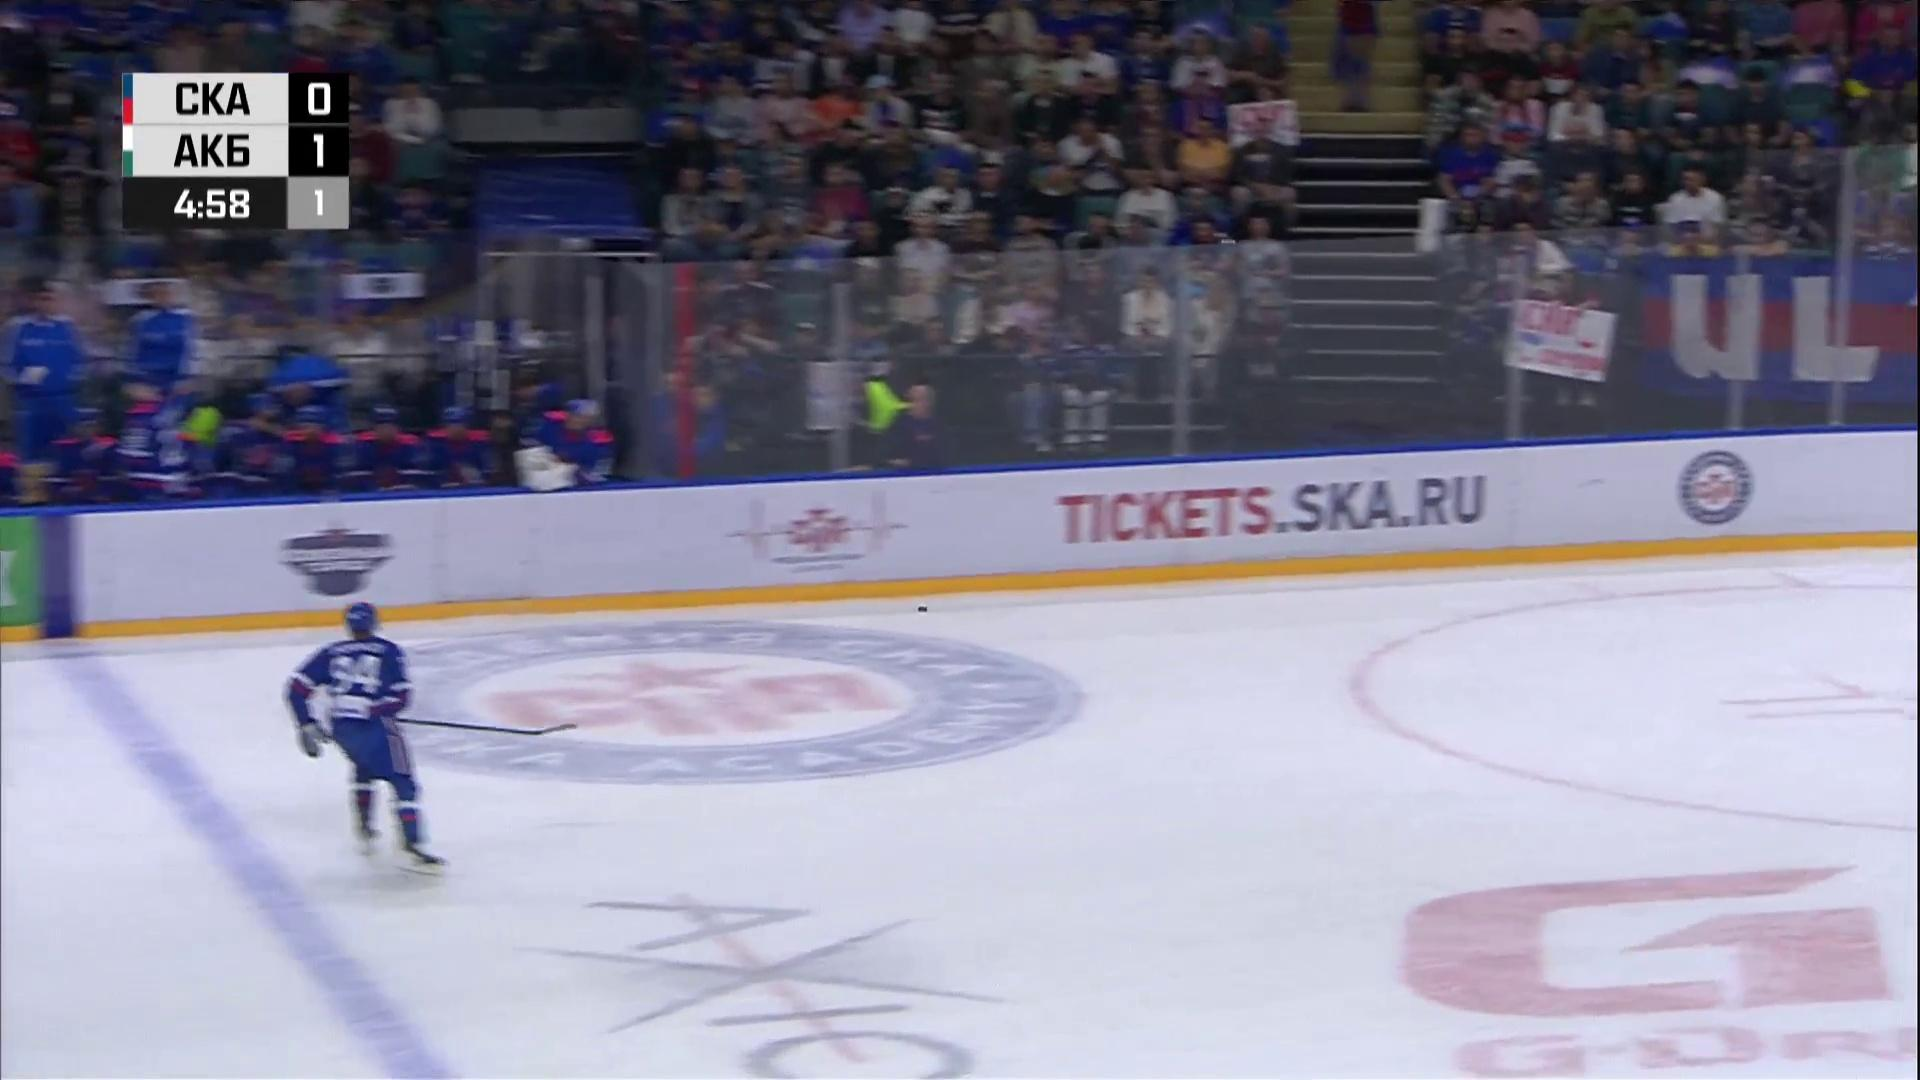ball: (918, 605, 928, 612)
